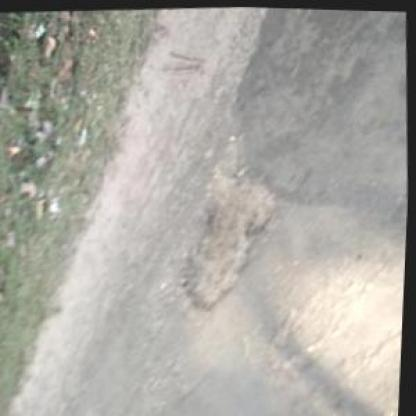pothole: (175, 165, 282, 313)
